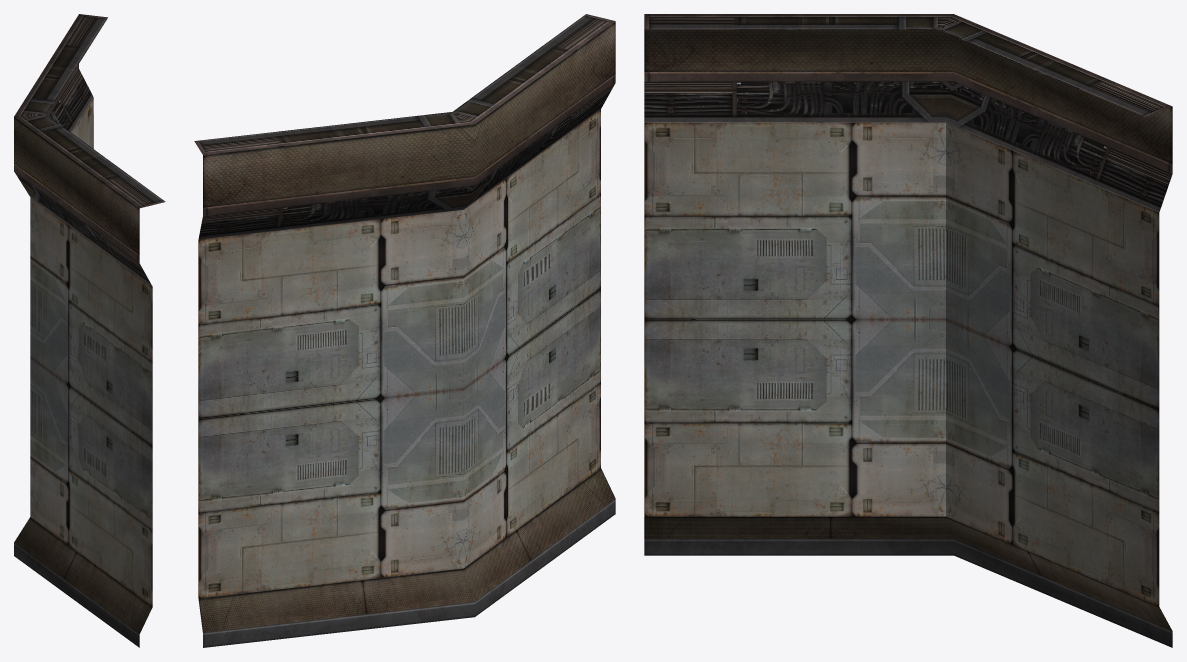
File: Wall_Ware_new03.fbx
3 renders of one model, left to right at view 1: azimuth 30°, elevation 25°; view 2: azimuth 150°, elevation 25°; view 3: azimuth 270°, elevation 25°, orthographic. The views are drawn at different scales.
Parts seen in each view (by area): view 1: Wall_Ware_new03; view 2: Wall_Ware_new03; view 3: Wall_Ware_new03.
Boxes of the visible parts, box(x1,y1,x2,y2) form: Wall_Ware_new03: box(14, 14, 165, 647); Wall_Ware_new03: box(194, 14, 615, 647); Wall_Ware_new03: box(644, 14, 1172, 647).
Bounding box in the file's own units: 164 × 400 × 354.
1 material, 1 textured.
